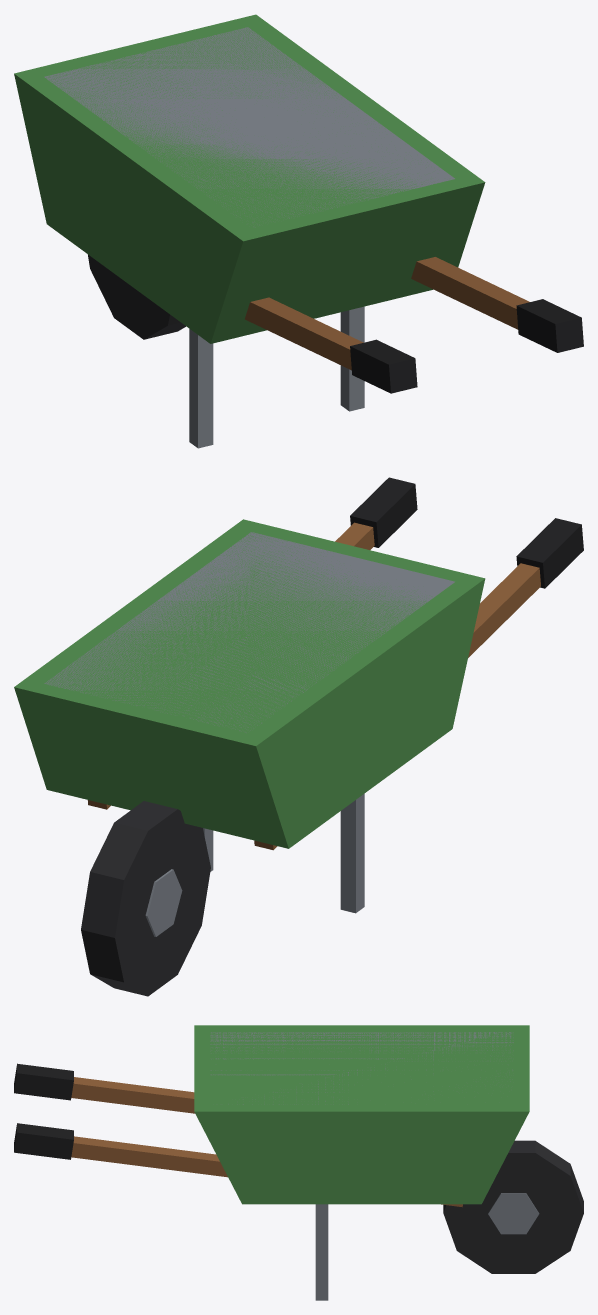
The model's file is tool_wheelbarrow.glb.
The picture shows the model from 3 angles, top to bottom: view 1: azimuth 30°, elevation 25°; view 2: azimuth 150°, elevation 25°; view 3: azimuth 270°, elevation 25°; orthographic projection. The views are drawn at different scales.
Parts seen in each view (by area): view 1: tool_wheelbarrow.001; view 2: tool_wheelbarrow.001; view 3: tool_wheelbarrow.001.
Boxes of the visible parts, bbox=[...] form: tool_wheelbarrow.001: bbox=[14, 14, 583, 448]; tool_wheelbarrow.001: bbox=[14, 477, 583, 996]; tool_wheelbarrow.001: bbox=[14, 1025, 583, 1300].
Bounding box in the file's own units: 0.64 × 0.7 × 1.78.
Materials: 1 (1 with a texture image).
